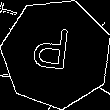P_S: (35, 26, 78, 81)
